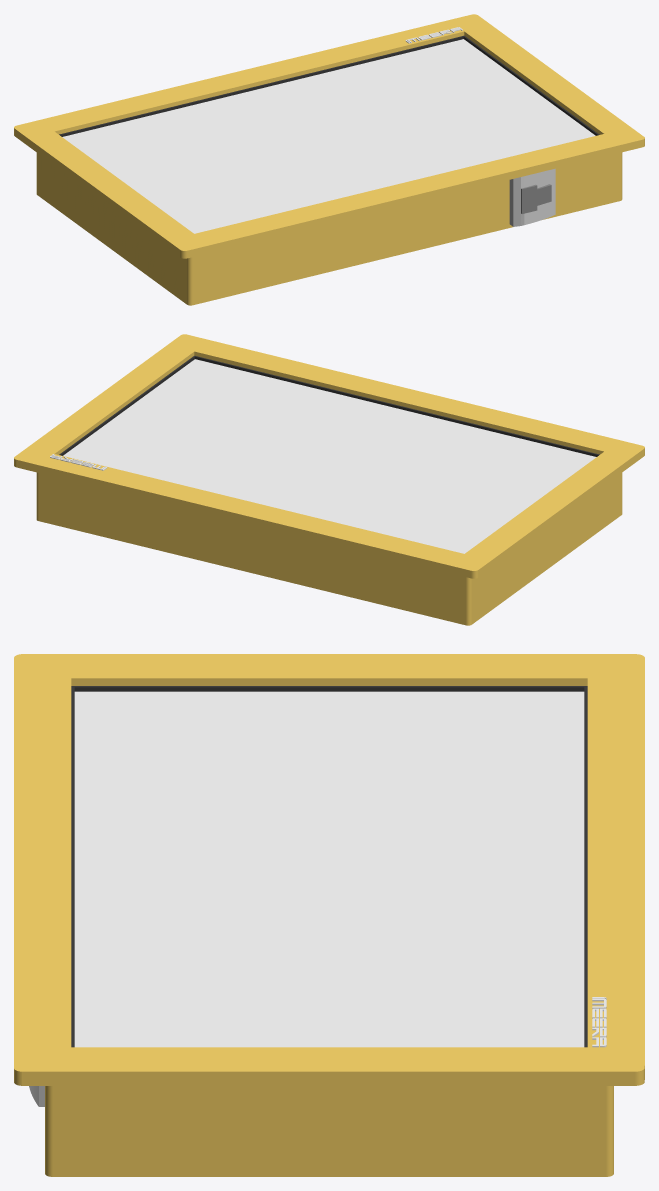
Rendered from meera.dae.
3 views of the same model, one above another, from view 1: azimuth 30°, elevation 25°; view 2: azimuth 150°, elevation 25°; view 3: azimuth 270°, elevation 25° (orthographic). The views are drawn at different scales.
Visible parts, largest first — view 1: SketchUp (×6), group_0 (×3); view 2: SketchUp (×6); view 3: SketchUp (×6).
Boxes of the visible parts, <box> form: SketchUp (×6): <box>14,14,644,305</box>; group_0 (×3): <box>509,168,555,226</box>; SketchUp (×6): <box>14,334,644,625</box>; SketchUp (×6): <box>14,654,644,1176</box>.
Size of the model in its own units: 2508 by 1601 by 336.
